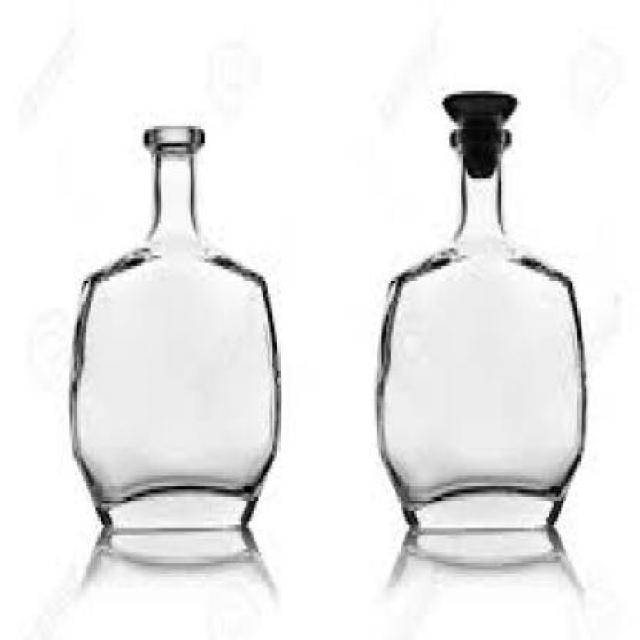kaca: (372, 126, 585, 528), (67, 123, 276, 528)
